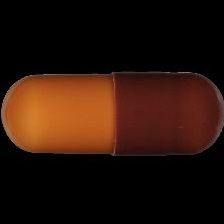61919-423: (0, 0, 224, 224)
